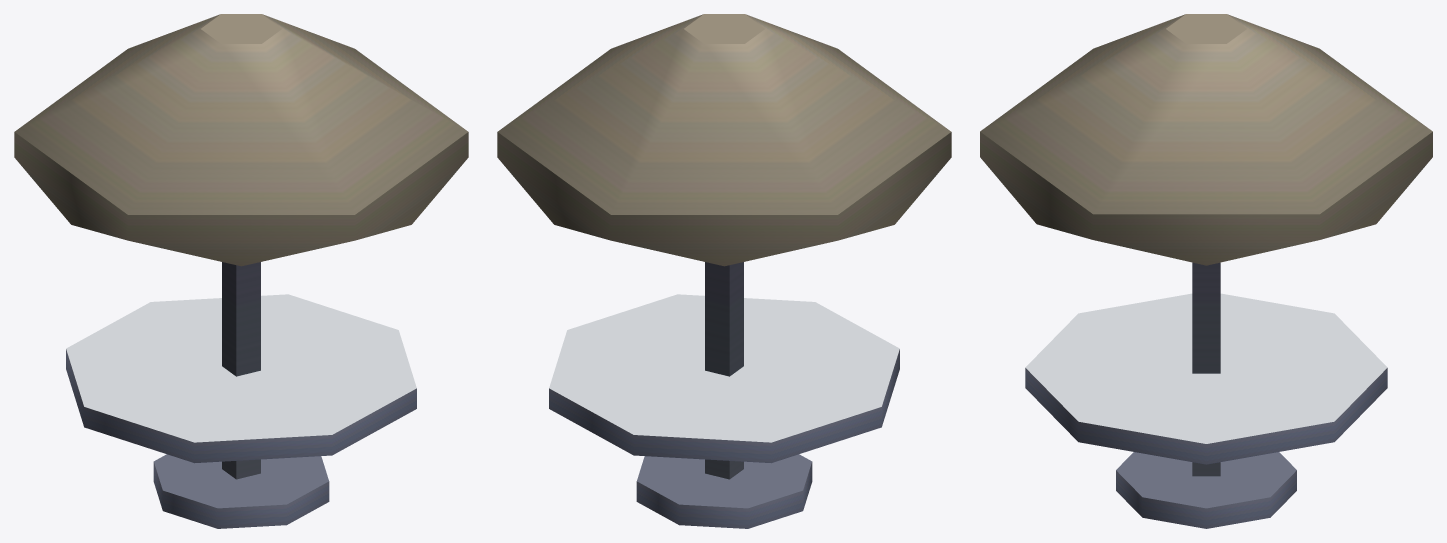
Rendered from detail-parasol-b.glb.
3 renders of one model, left to right at view 1: azimuth 30°, elevation 25°; view 2: azimuth 150°, elevation 25°; view 3: azimuth 270°, elevation 25°, orthographic.
Parts seen in each view (by area): view 1: detail-parasol-b; view 2: detail-parasol-b; view 3: detail-parasol-b.
Part boxes in pixels (x1,y1,x2,y2): detail-parasol-b: [14, 14, 468, 528]; detail-parasol-b: [497, 14, 951, 528]; detail-parasol-b: [980, 14, 1432, 528].
Bounding box in the file's own units: 0.3464 × 0.45 × 0.4.
Materials: 1 (1 with a texture image).
